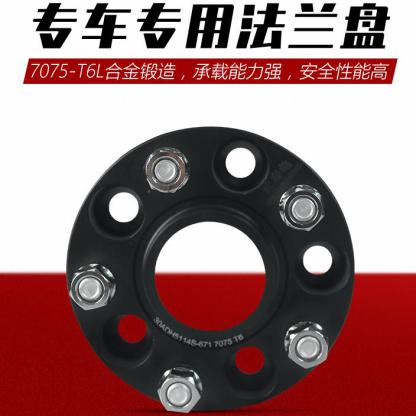FOD: (58, 116, 362, 415)
